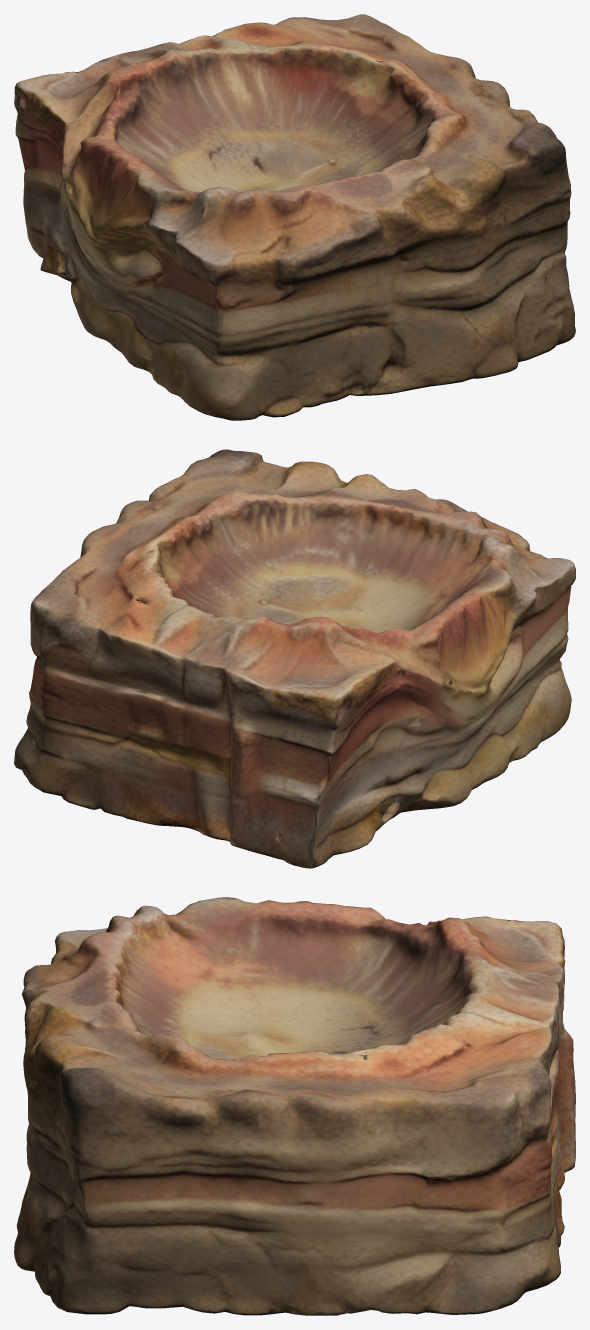
3 renders of one model, top to bottom at view 1: azimuth 30°, elevation 25°; view 2: azimuth 150°, elevation 25°; view 3: azimuth 270°, elevation 25°, orthographic. The views are drawn at different scales.
Visible parts, largest first — view 1: world; view 2: world; view 3: world.
Part boxes in pixels (x1,y1,x2,y2): world: [14, 14, 575, 420]; world: [14, 449, 575, 868]; world: [14, 897, 575, 1315].
Size of the model in its own units: 27.82 by 13.98 by 30.
Materials: 1 (1 with a texture image).
